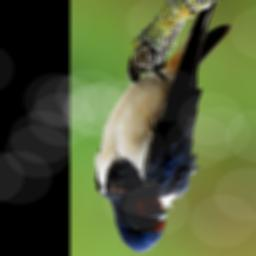Swallow: (93, 0, 232, 254)
